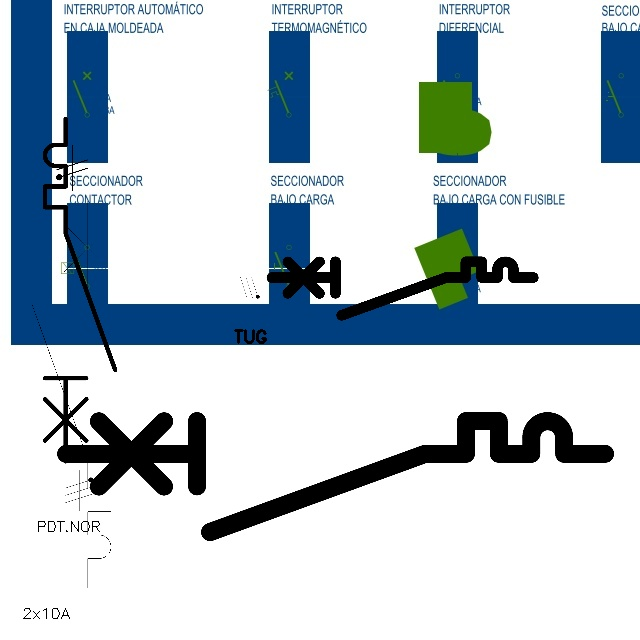interruptor_termomagnetico: (52, 407, 619, 546), (22, 191, 121, 598), (36, 110, 124, 470), (265, 255, 540, 322)
